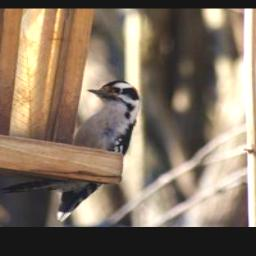Woodpecker: (1, 79, 141, 220)
